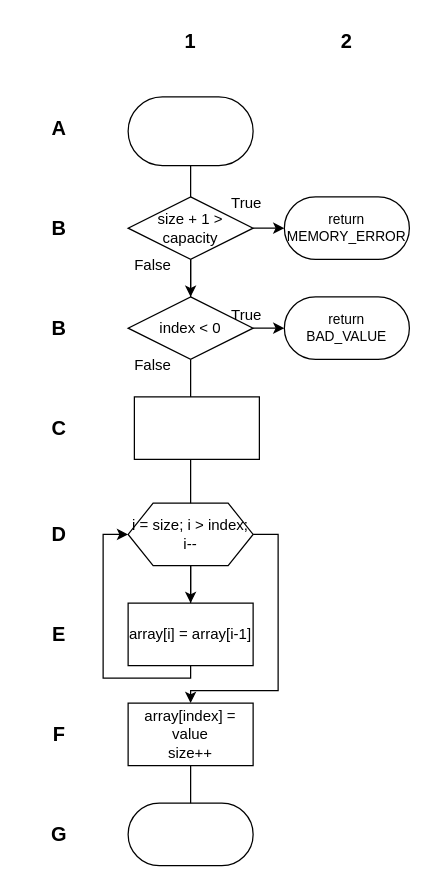
Image size: 431x888. Some labels were removed from this diagram. The shapes that lost their labels are listed below. From the top down, each one's centre as x and y in pixels, then its label:
the point at 190,131: array_append (array, size, capacity, index, value)
the point at 196,427: index = min(size, index)
the point at 190,834: return EXIT_SUCCESS
